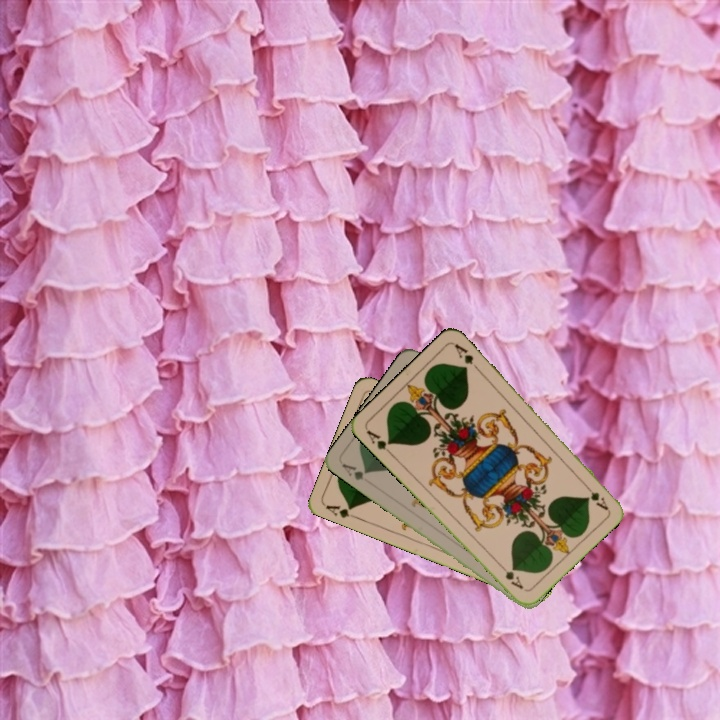GA: (579, 478, 611, 512), (362, 426, 395, 458), (321, 501, 361, 522), (338, 459, 371, 483)
